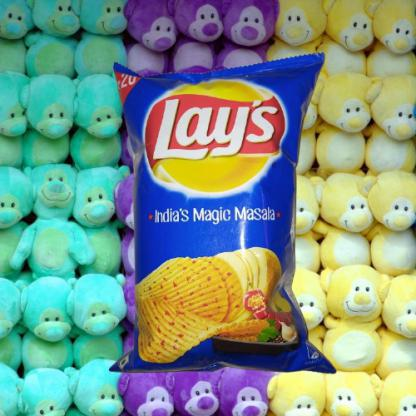indian_magic_masala: (114, 56, 322, 367)
